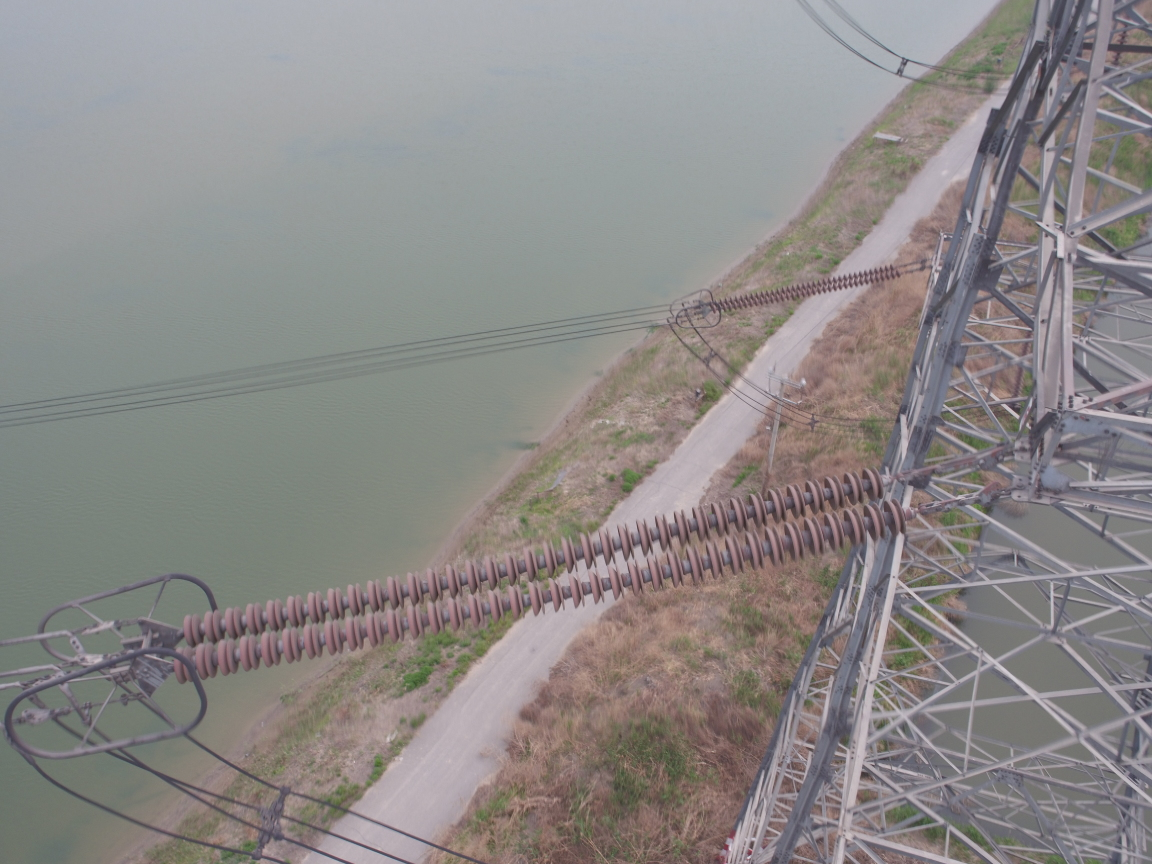insulator: (161, 460, 961, 687), (702, 260, 917, 315)
